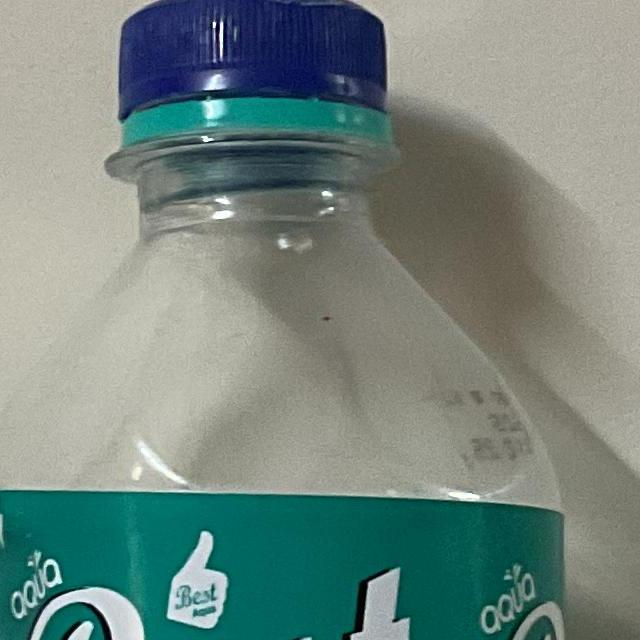Good-cap-Df0S: (99, 0, 406, 180)
